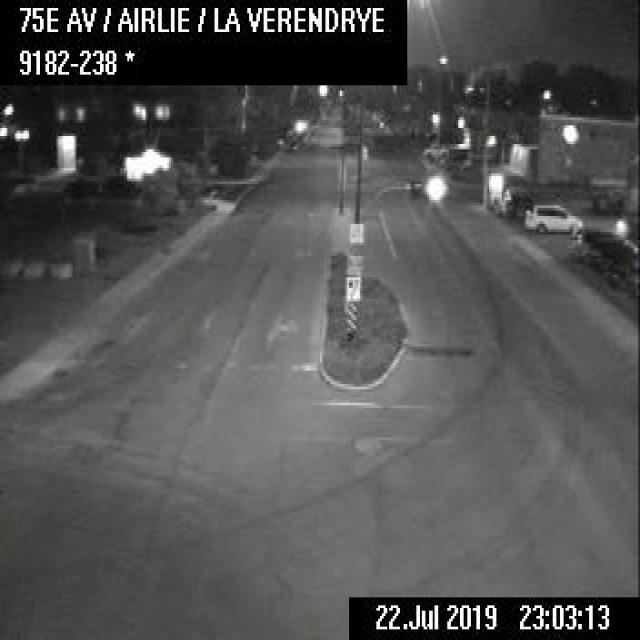vehicle: (522, 201, 581, 233), (492, 183, 533, 220), (421, 139, 446, 159)
